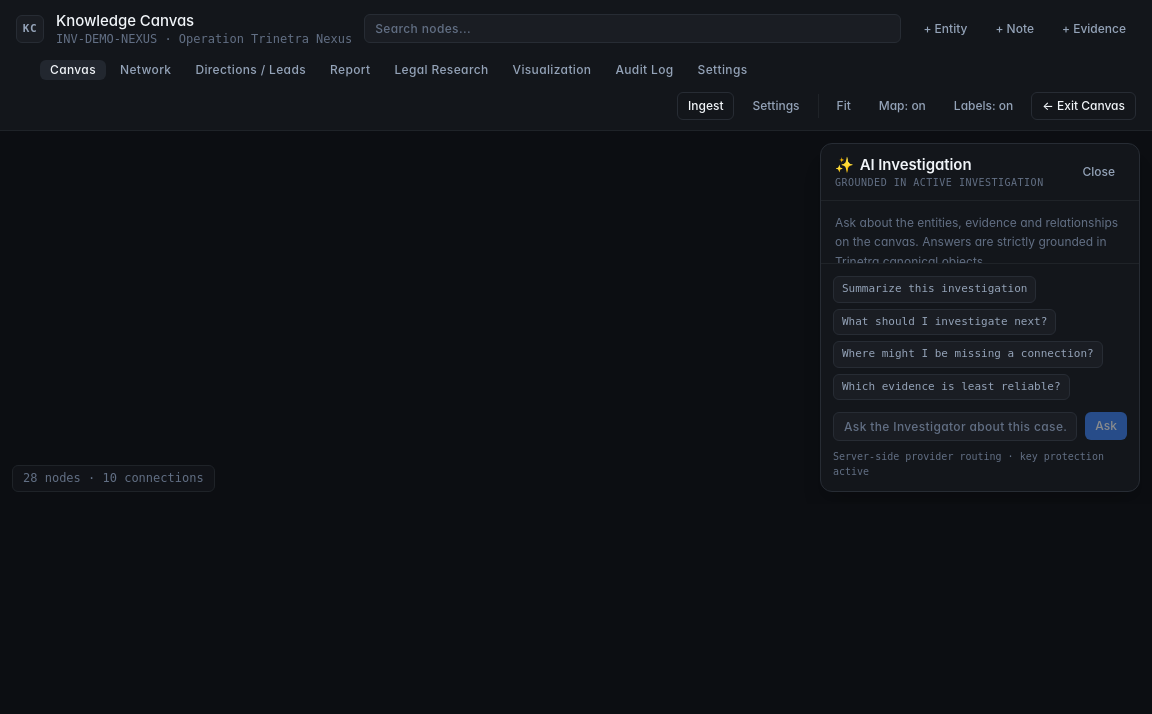
Test case: CanvasWorkspace › navigates between canvas views without leaving the workspace
This screenshot has width=1152, height=714.
Click the button with test id "canvas-tab-network": click(146, 70) [110,60,182,80]
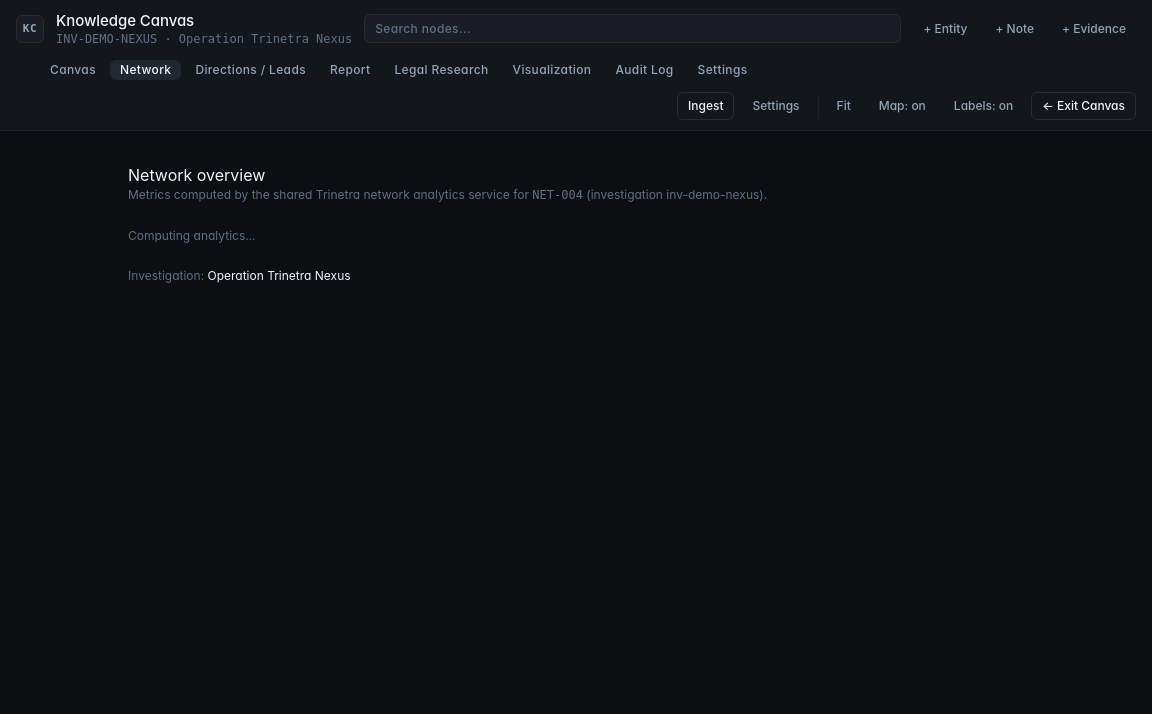
Expected: the element with test id "canvas-network-view" is shown, [128,165,767,283]
Click the button with test id "canvas-tab-report": click(350, 70) [320,60,380,80]
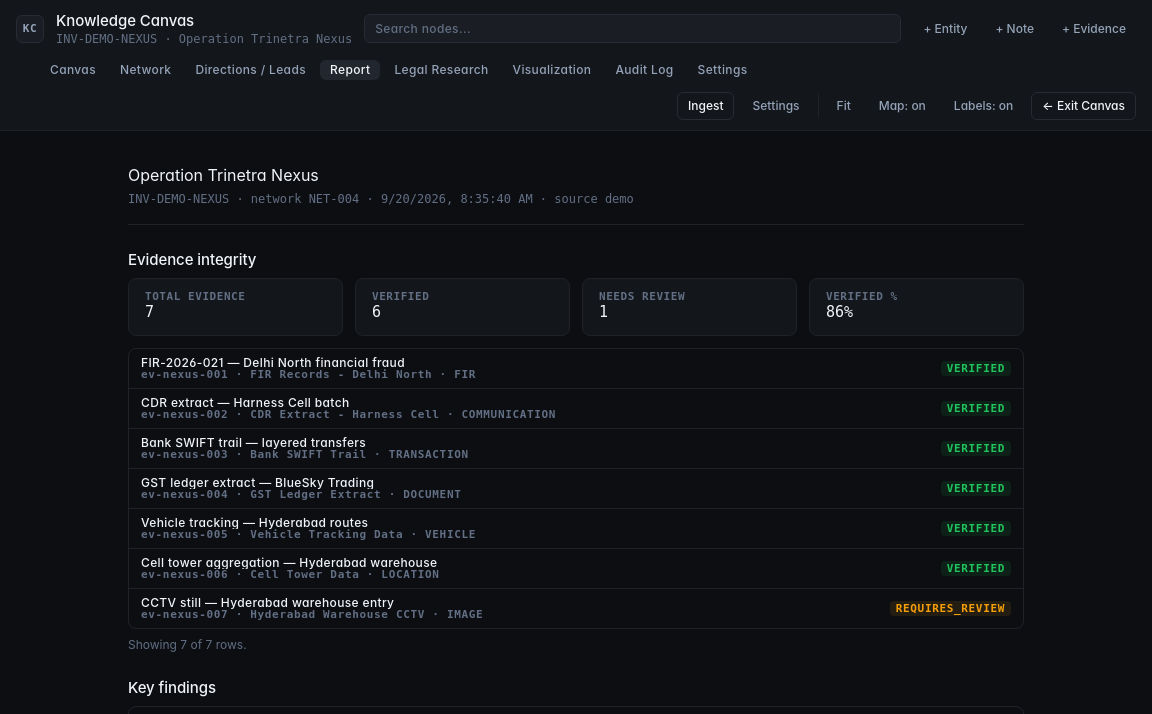
Click the button with test id "canvas-tab-audit": click(644, 70) [605,60,684,80]
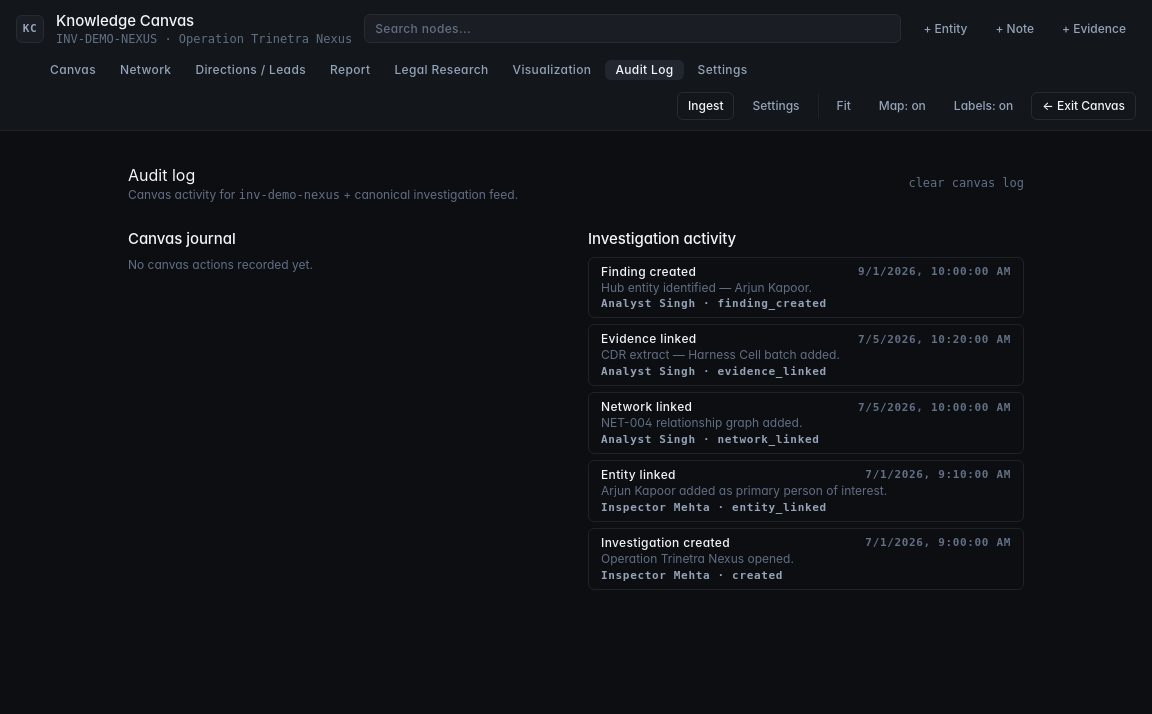
Expected: the element with test id "canvas-audit-view" is shown, [128,163,1024,590]
Click the button with test id "canvas-tab-graph": click(73, 70) [40,60,106,80]
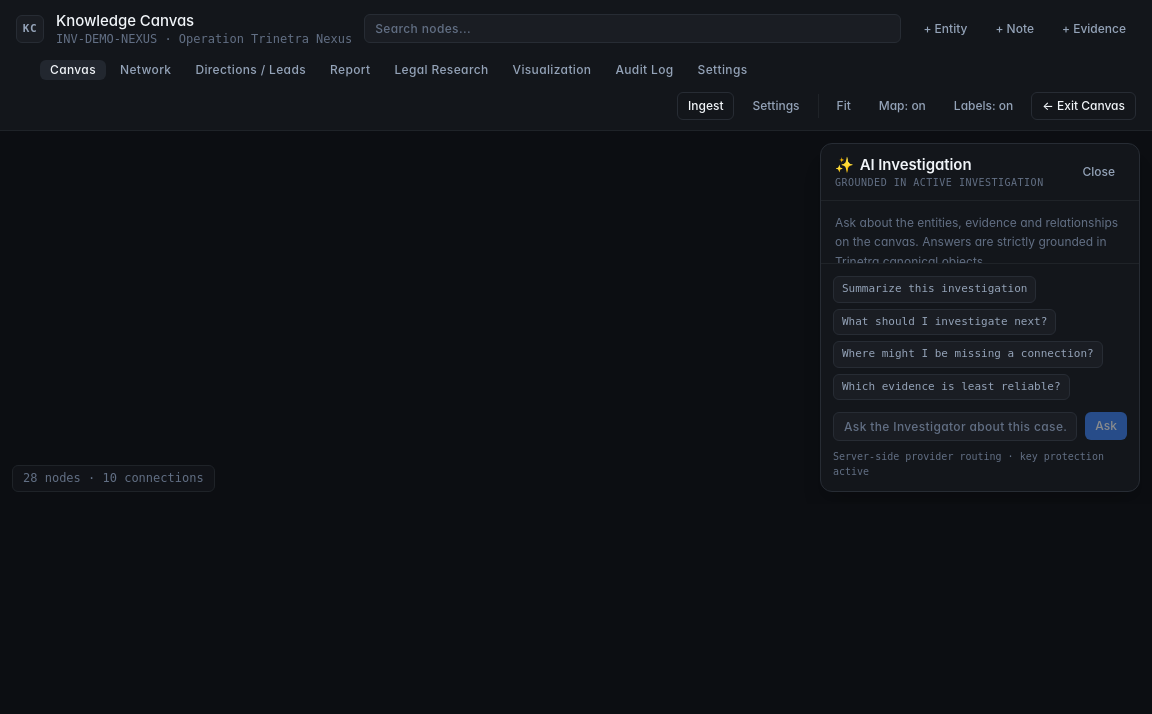
Expected: the element with test id "canvas-graph" is shown, [12,465,215,492]
